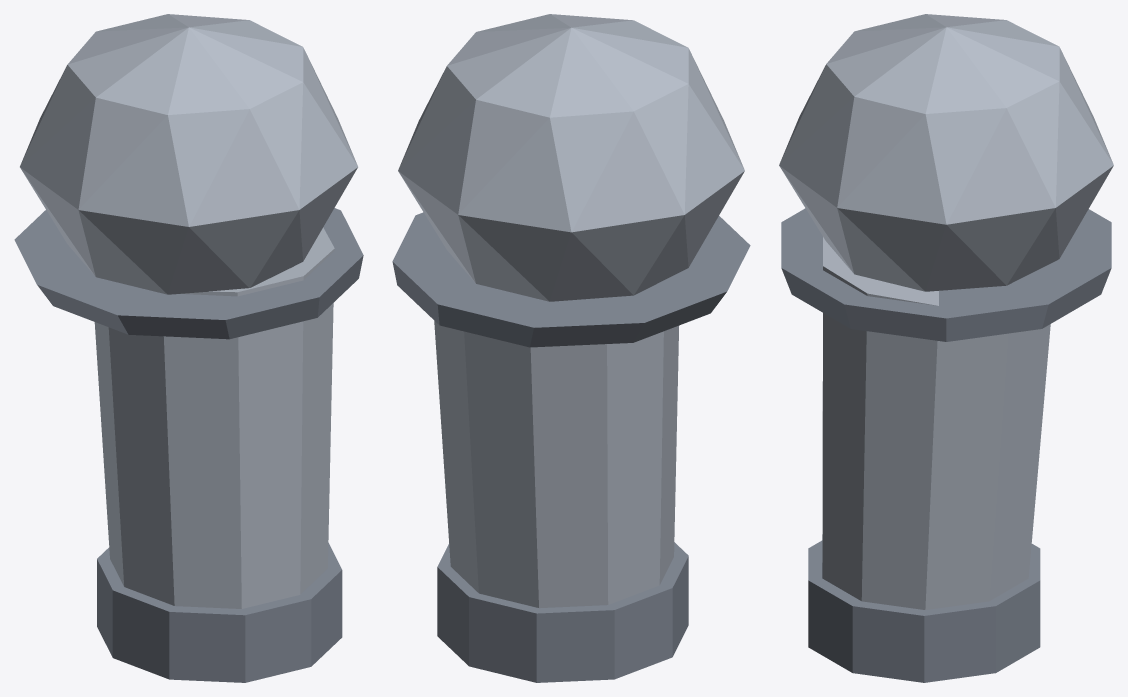
The model's file is gear_steel_body_arm_r.glb.
The picture shows the model from 3 angles, left to right: view 1: azimuth 30°, elevation 25°; view 2: azimuth 150°, elevation 25°; view 3: azimuth 270°, elevation 25°; orthographic projection. The views are drawn at different scales.
Parts seen in each view (by area): view 1: gear_steel_body_arm_r; view 2: gear_steel_body_arm_r; view 3: gear_steel_body_arm_r.
Boxes of the visible parts, <box> form: gear_steel_body_arm_r: <box>14,14,363,682</box>; gear_steel_body_arm_r: <box>392,14,750,682</box>; gear_steel_body_arm_r: <box>779,14,1113,682</box>.
Size of the model in its own units: 0.188 by 0.355 by 0.1812.
